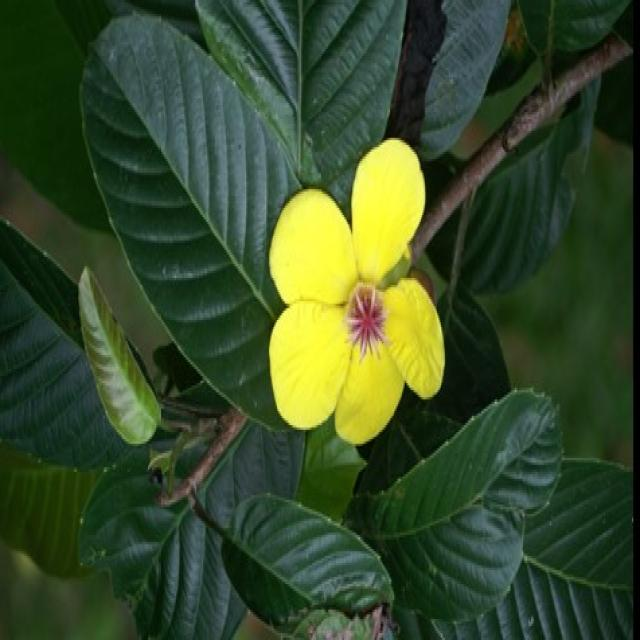Simpoh-Lak: (233, 128, 496, 484)
